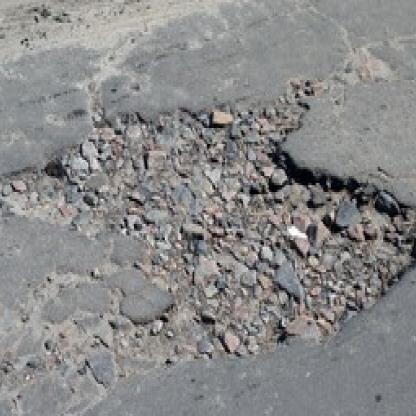pothole: (52, 88, 416, 318)
